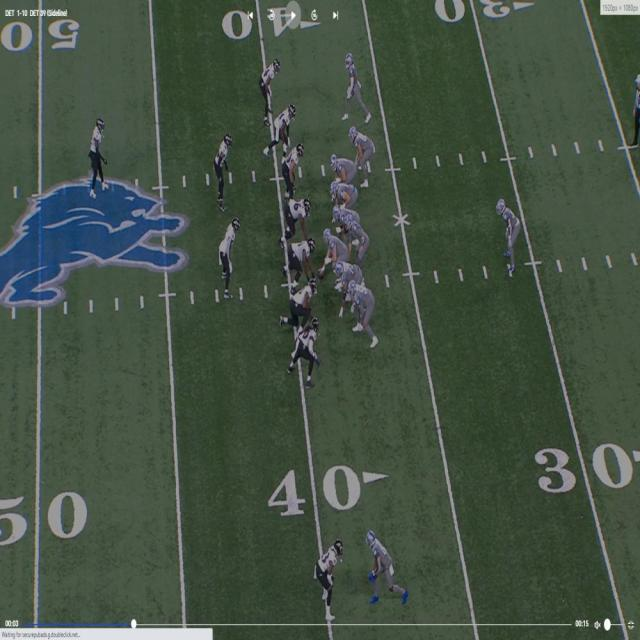center: (320, 227, 342, 273)
db: (317, 534, 343, 616), (261, 56, 280, 117), (271, 104, 294, 152), (89, 116, 105, 184)
lb: (496, 195, 520, 272), (296, 318, 318, 398), (220, 214, 238, 298), (213, 131, 234, 197), (283, 140, 304, 195)
qb: (346, 215, 370, 266)
skill: (366, 527, 403, 600), (344, 48, 364, 122), (349, 129, 374, 188)
